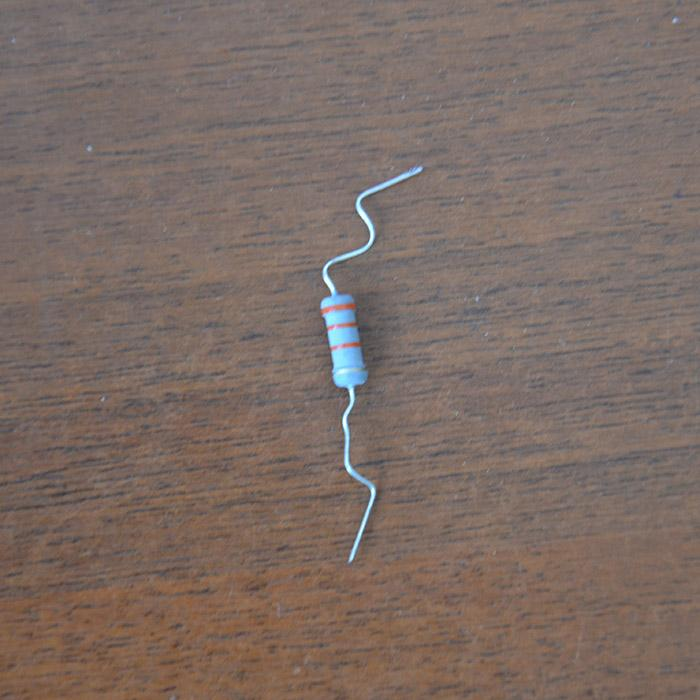resistor: (319, 292, 368, 387)
